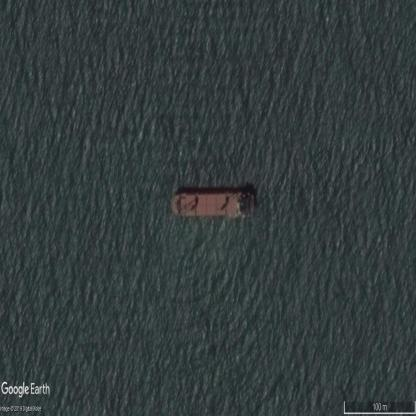ship: (170, 189, 257, 218)
